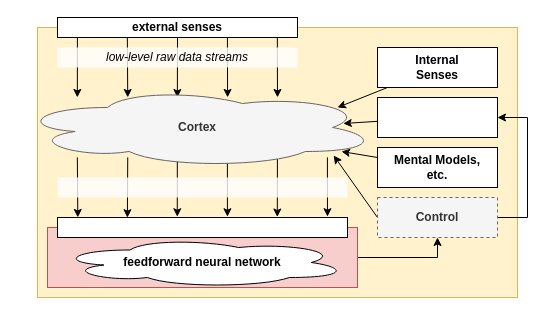
Image size: 553x315. Some labels were removed from this diagram. Here are the shapes that lost their labels. From the top down, the box of each, then its label:
(376, 96, 498, 138): Working State
(57, 177, 347, 197): hgh-level data + meaning + context
(56, 216, 348, 238): thalamic senses
